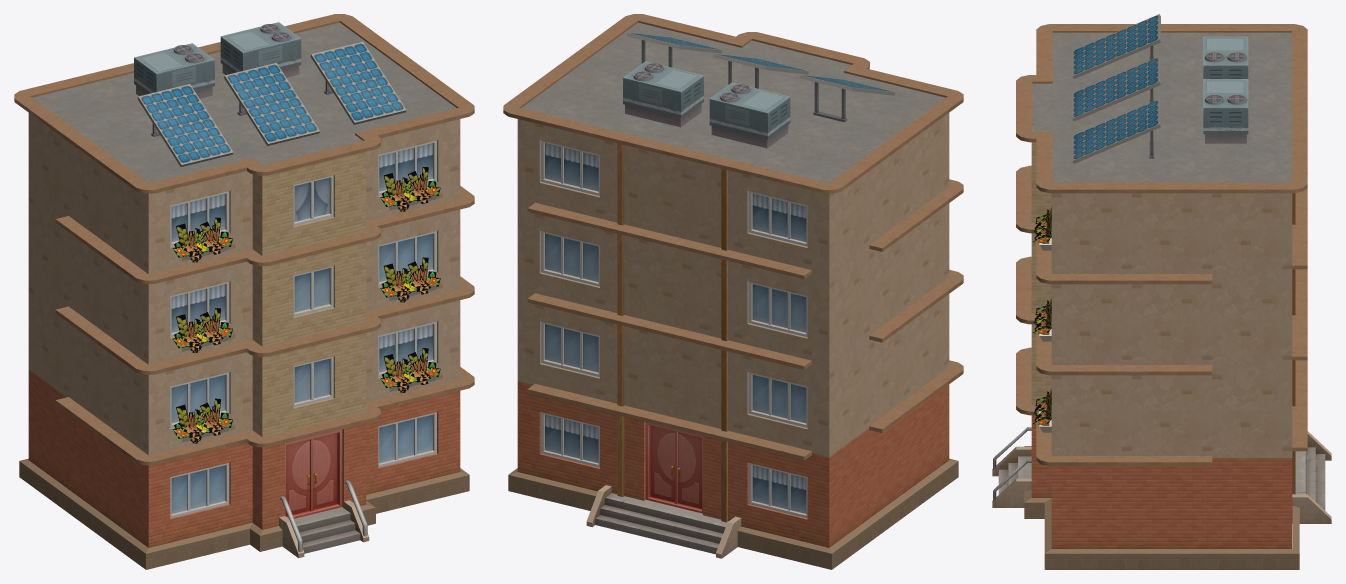
The model's file is Building_5_1.glb.
3 views of the same model, side by side, from view 1: azimuth 30°, elevation 25°; view 2: azimuth 150°, elevation 25°; view 3: azimuth 270°, elevation 25° (orthographic).
Visible parts, largest first — view 1: Building_5_Roof_1; view 2: Building_5_Roof_1; view 3: Building_5_Roof_1.
Part boxes in pixels (x1,y1,x2,y2): Building_5_Roof_1: (14, 14, 474, 569); Building_5_Roof_1: (503, 14, 963, 569); Building_5_Roof_1: (992, 14, 1331, 569).
Bounding box in the file's own units: 9.76 × 11.59 × 8.45.
13 materials, 13 textured.
